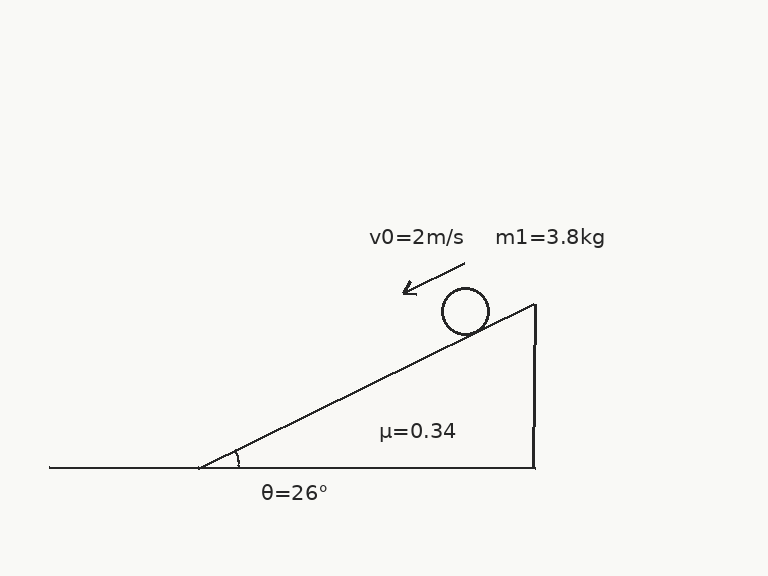ball: (439, 285, 491, 337)
ramp: (197, 302, 535, 469)
